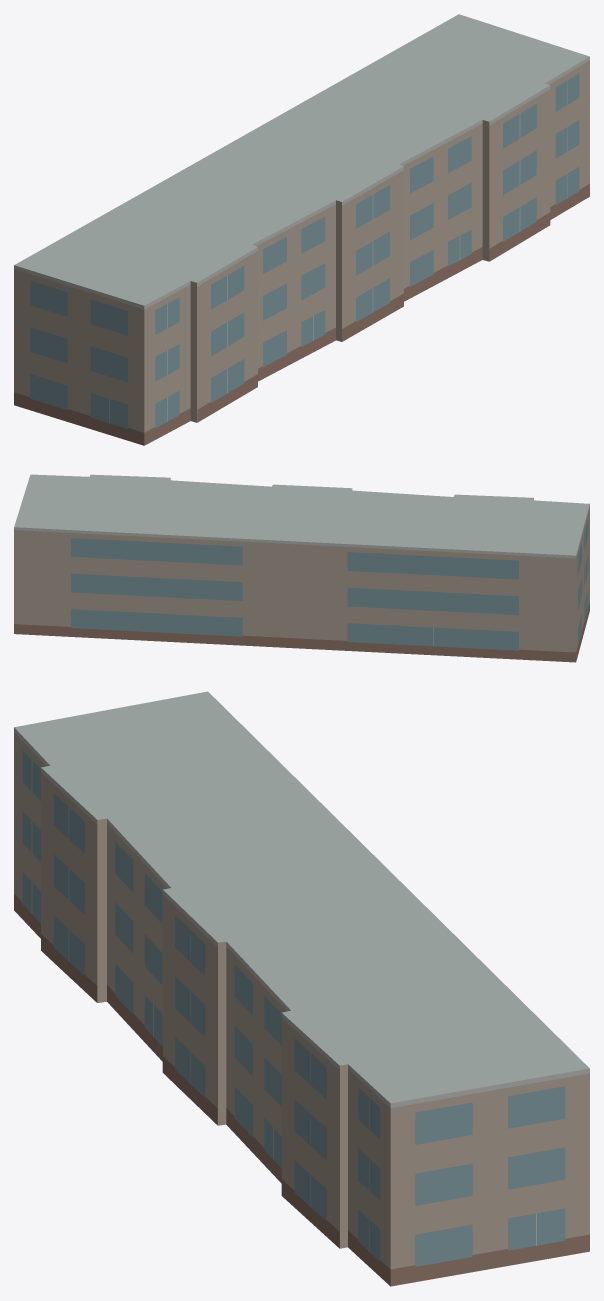
The model's file is survey-upis-32981402.glb.
3 views of the same model, one above another, from view 1: azimuth 30°, elevation 25°; view 2: azimuth 150°, elevation 25°; view 3: azimuth 270°, elevation 25° (orthographic). The views are drawn at different scales.
Parts seen in each view (by area): view 1: survey-upis-32981402.tmp; view 2: survey-upis-32981402.tmp; view 3: survey-upis-32981402.tmp.
Boxes of the visible parts, <box> form: survey-upis-32981402.tmp: <box>14,14,589,445</box>; survey-upis-32981402.tmp: <box>14,474,589,662</box>; survey-upis-32981402.tmp: <box>14,691,589,1286</box>.
Size of the model in its own units: 44.16 by 9.15 by 26.09.
